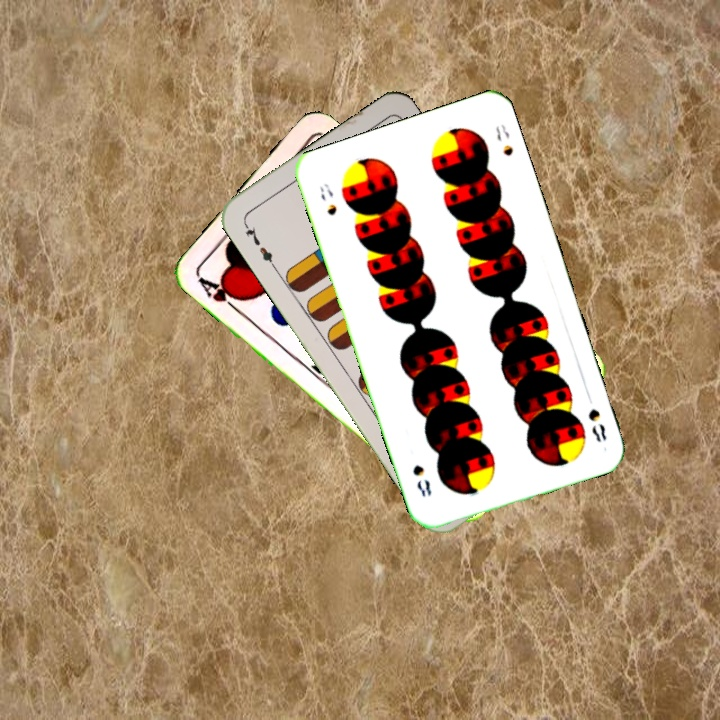E7: (239, 218, 278, 271)
HA: (193, 271, 248, 315)
S8: (584, 404, 609, 445), (316, 179, 340, 218)
